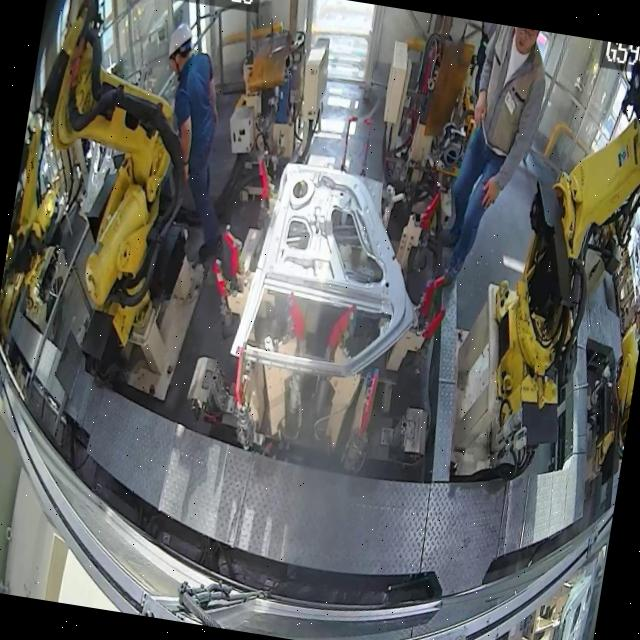Person: (432, 21, 554, 300), (136, 20, 258, 266), (466, 22, 516, 112)
